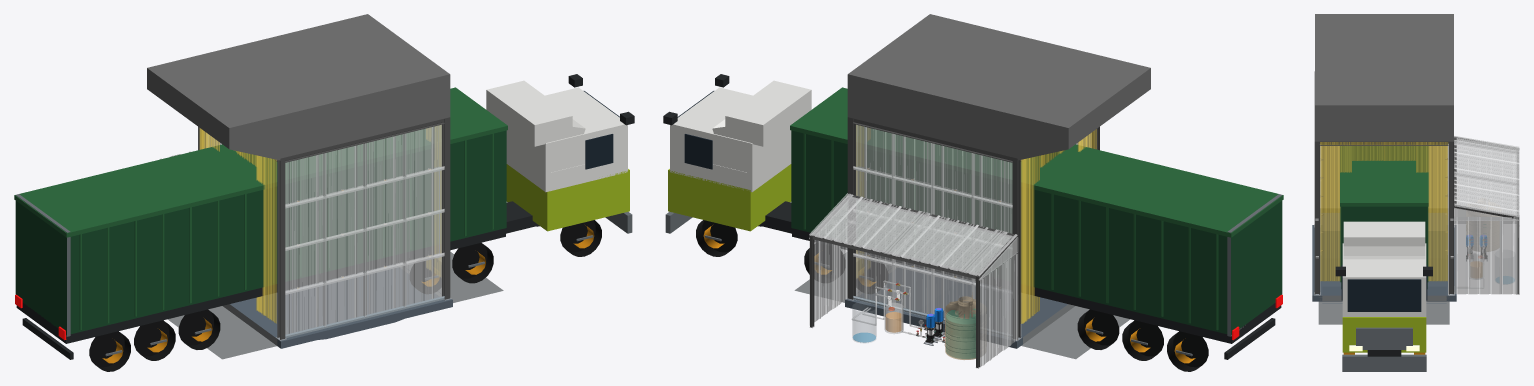
The model's file is site.glb.
3 views of the same model, side by side, from view 1: azimuth 30°, elevation 25°; view 2: azimuth 150°, elevation 25°; view 3: azimuth 270°, elevation 25° (orthographic). The views are drawn at different scales.
Parts seen in each view (by area): view 1: Lorry, SprayHouse, ApproachRamps; view 2: Lorry, SprayHouse, ApproachRamps, TankLiquids; view 3: SprayHouse, Lorry, ApproachRamps.
Part boxes in pixels (x1,y1,x2,y2): Lorry: (14,74,634,371); SprayHouse: (147,14,452,348); ApproachRamps: (168,252,503,359); Lorry: (663,74,1283,371); SprayHouse: (809,14,1150,368); ApproachRamps: (794,252,1129,359); TankLiquids: (852,302,975,358); SprayHouse: (1312,14,1519,303); Lorry: (1335,146,1432,371); ApproachRamps: (1318,209,1449,324).
Size of what is drawn, in the model's own units: 16.56 by 6.65 by 6.18.
